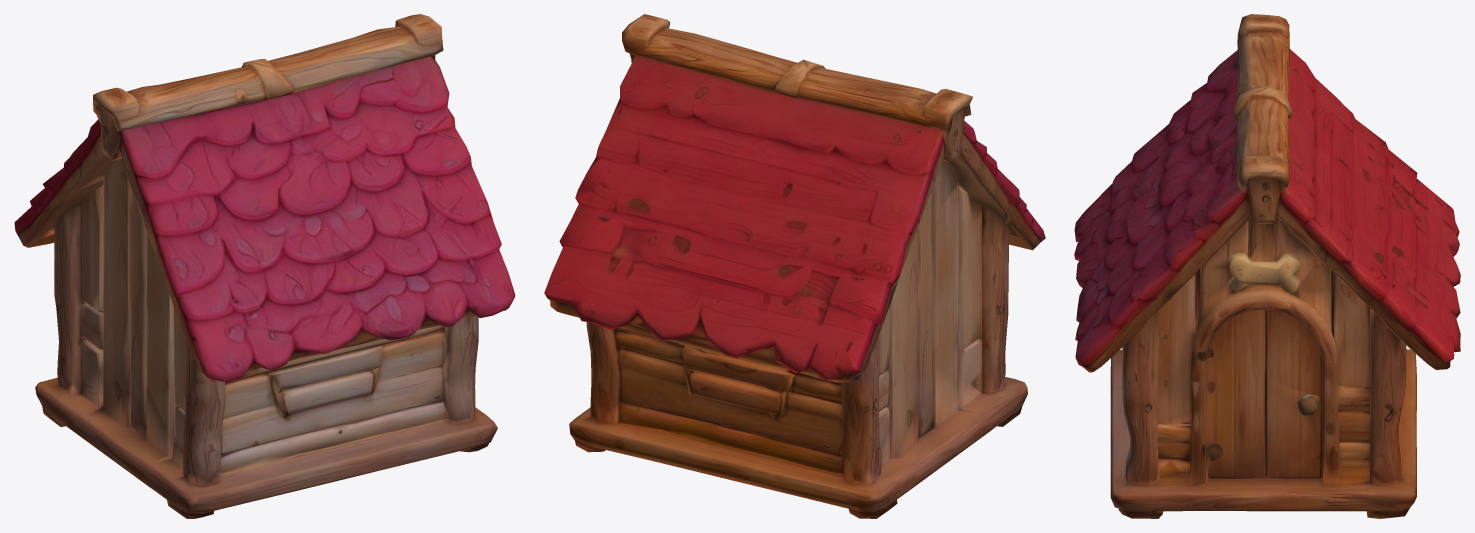
File: kulube.glb
3 renders of one model, left to right at view 1: azimuth 30°, elevation 25°; view 2: azimuth 150°, elevation 25°; view 3: azimuth 270°, elevation 25°, orthographic. The views are drawn at different scales.
Parts seen in each view (by area): view 1: tripo_node_c5e401a0-ba5c-4a34-b480-8a9f613a3f6b; view 2: tripo_node_c5e401a0-ba5c-4a34-b480-8a9f613a3f6b; view 3: tripo_node_c5e401a0-ba5c-4a34-b480-8a9f613a3f6b.
Boxes of the visible parts, x1,y1,x2,y2 form: tripo_node_c5e401a0-ba5c-4a34-b480-8a9f613a3f6b: [14, 14, 515, 518]; tripo_node_c5e401a0-ba5c-4a34-b480-8a9f613a3f6b: [544, 14, 1045, 518]; tripo_node_c5e401a0-ba5c-4a34-b480-8a9f613a3f6b: [1074, 14, 1460, 518].
Bounding box in the file's own units: 0.9255 × 1 × 0.9694.
Materials: 1 (1 with a texture image).
